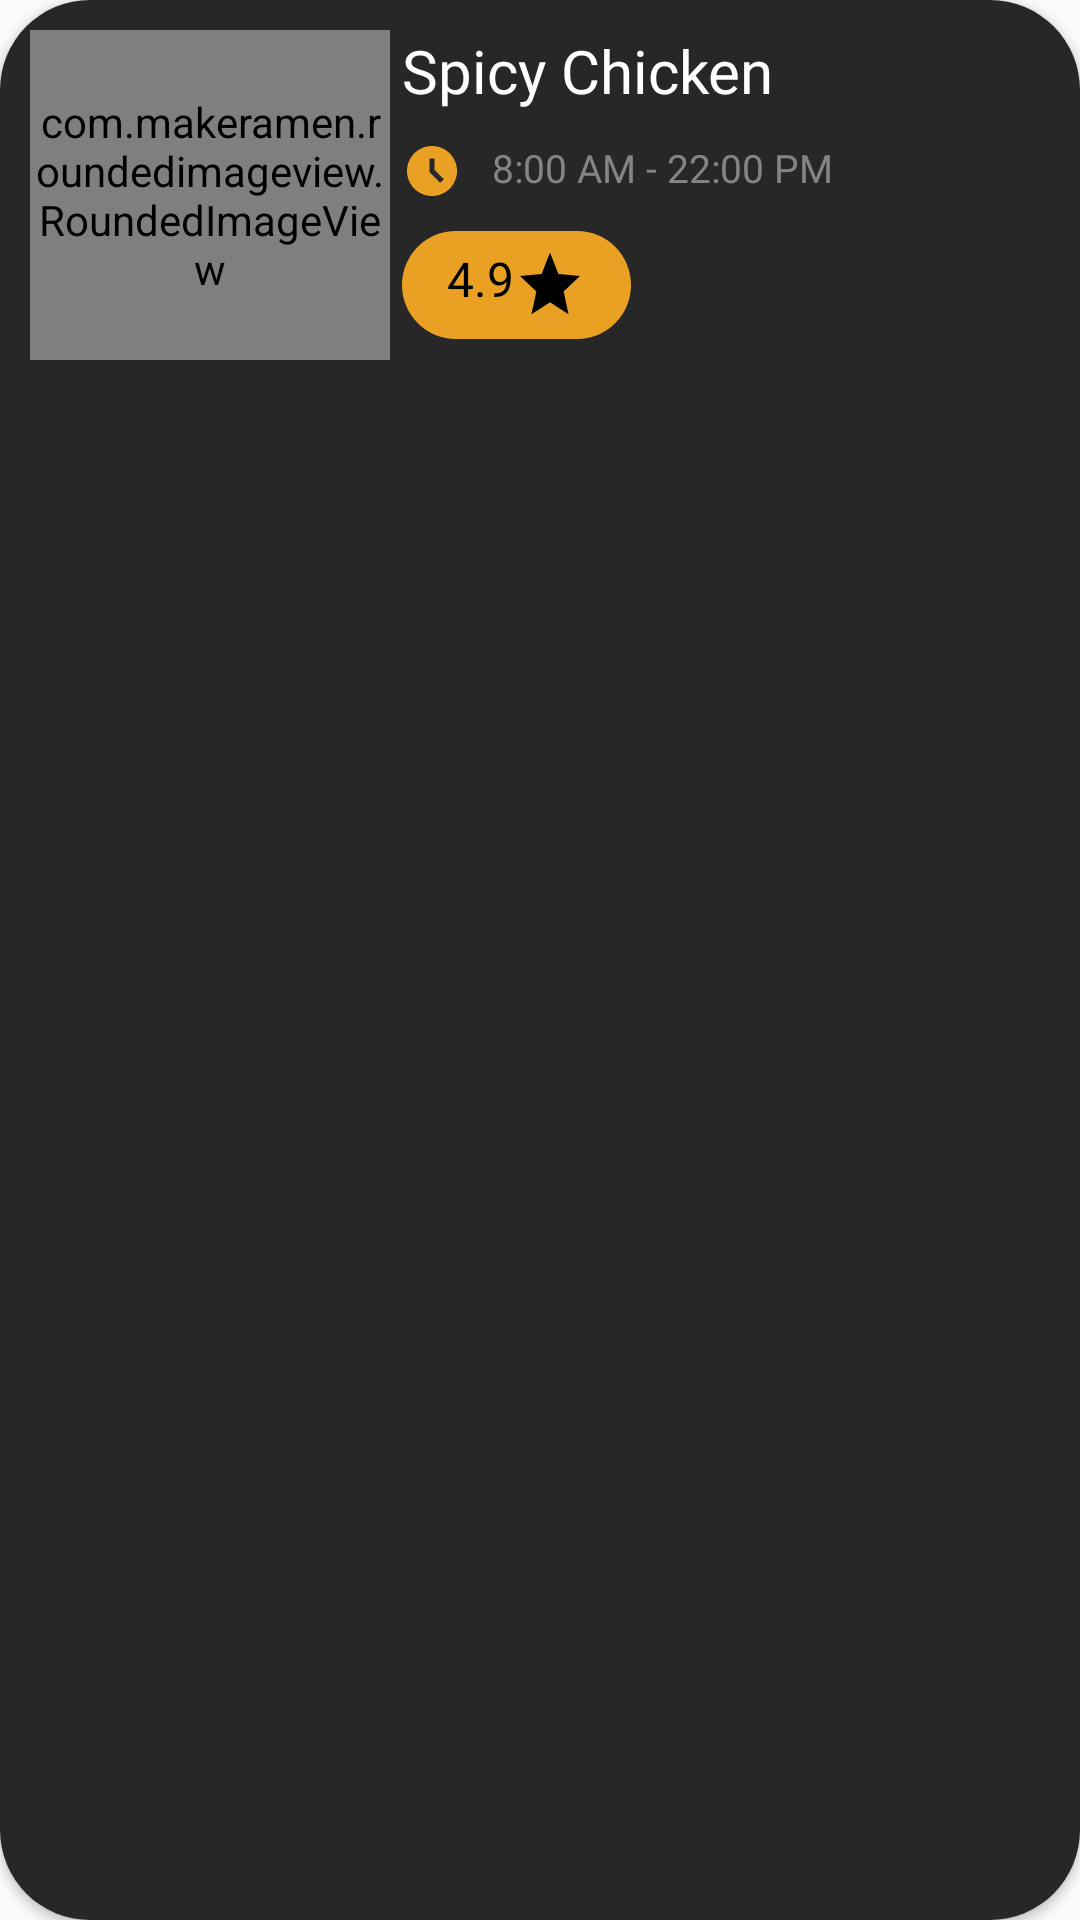

Icons on this 1080*1920 Android screen, each with the point to tap as (x,y):
access time: (432,171)
